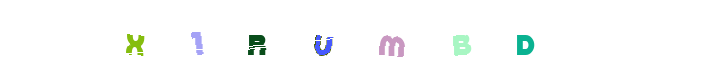1: (221, 0, 301, 80)
B: (389, 0, 469, 80)
D: (481, 0, 561, 80)
M: (312, 0, 392, 80)
R: (283, 0, 363, 80)
U: (286, 0, 366, 80)
X: (110, 0, 190, 80)
